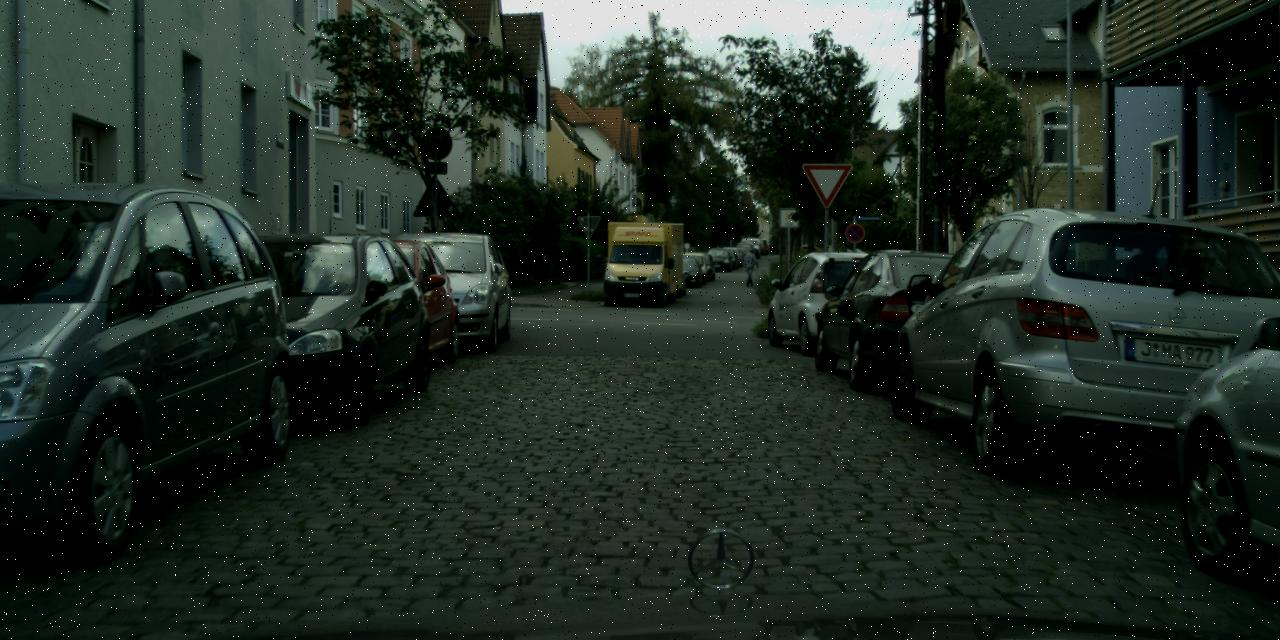ped: (742, 248, 758, 286)
